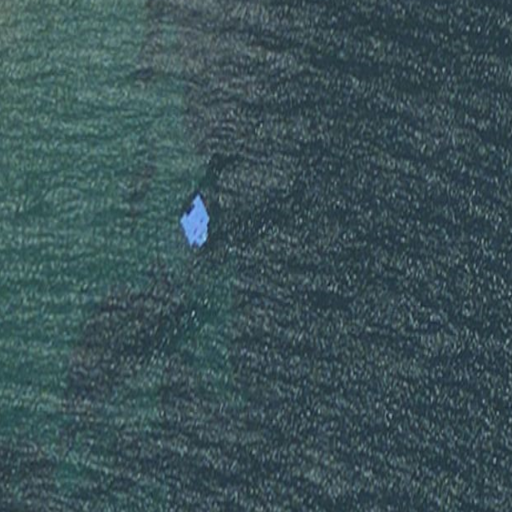ship: (179, 194, 211, 252)
